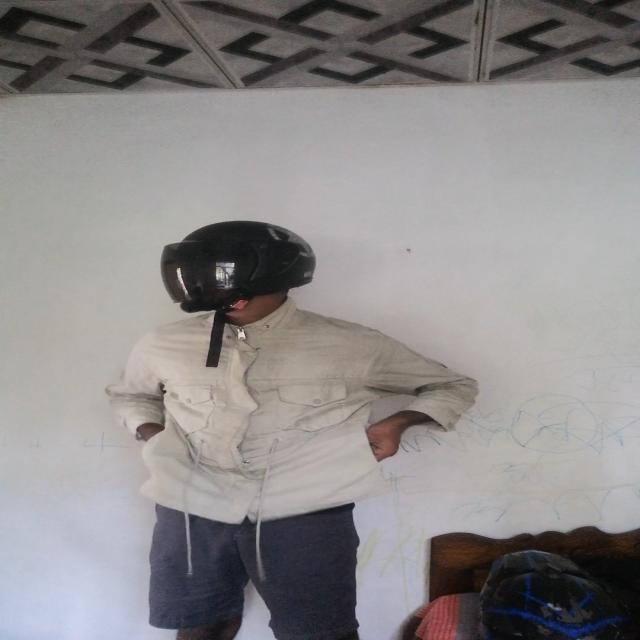Helmet_Wearer: (157, 219, 322, 342)
Jacket_Wearer: (111, 305, 477, 517)
Person: (112, 200, 454, 640)
